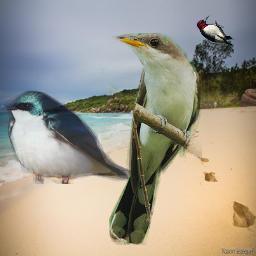Cuckoo: (109, 33, 202, 245)
Swallow: (2, 89, 142, 184)
Woodpecker: (195, 15, 236, 46)
